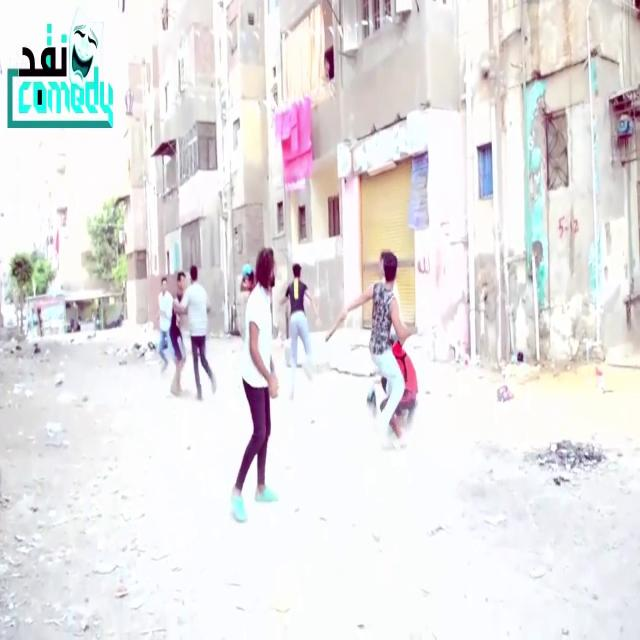non_violence: (235, 248, 278, 523)
violence: (324, 248, 424, 457), (169, 257, 212, 416)
